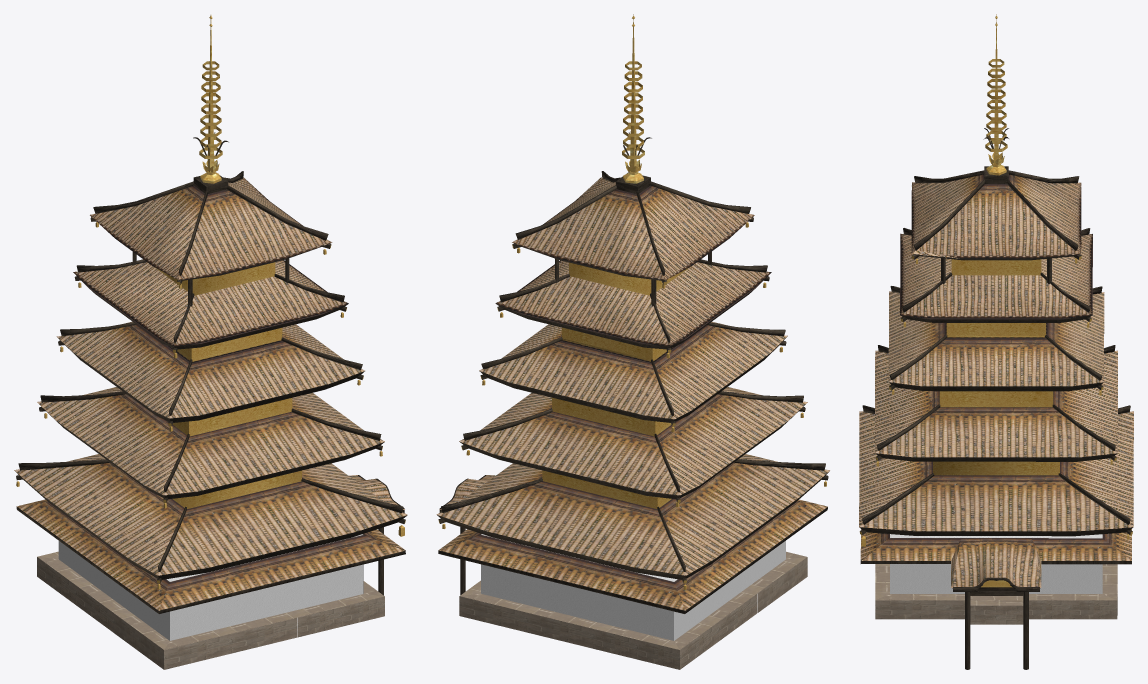
The model's file is pangoda.gltf.
3 renders of one model, left to right at view 1: azimuth 30°, elevation 25°; view 2: azimuth 150°, elevation 25°; view 3: azimuth 270°, elevation 25°, orthographic. The views are drawn at different scales.
Parts seen in each view (by area): view 1: Roof_1, Wood_2, White_0, Gold_4, Slabs_3, Floor_5; view 2: Roof_1, Wood_2, White_0, Gold_4, Slabs_3, Floor_5; view 3: Roof_1, Wood_2, Gold_4, Slabs_3, White_0, Floor_5.
Boxes of the visible parts, x1,y1,x2,y2 form: Roof_1: (14,177,407,610); Wood_2: (15,132,407,613); White_0: (58,534,363,640); Gold_4: (16,15,405,589); Slabs_3: (37,557,384,669); Floor_5: (37,551,384,649); Roof_1: (436,177,829,610); Wood_2: (437,132,829,613); White_0: (481,534,785,640); Gold_4: (438,14,826,589); Slabs_3: (459,557,807,669); Floor_5: (460,551,806,649); Roof_1: (859,174,1133,587); Wood_2: (859,128,1132,669); Gold_4: (859,14,1132,587); Slabs_3: (875,597,1117,624); White_0: (890,534,1102,593); Floor_5: (875,564,1117,605).
Size of the model in its own units: 2.05 by 4.05 by 1.73.
Materials: 6 (6 with a texture image).
